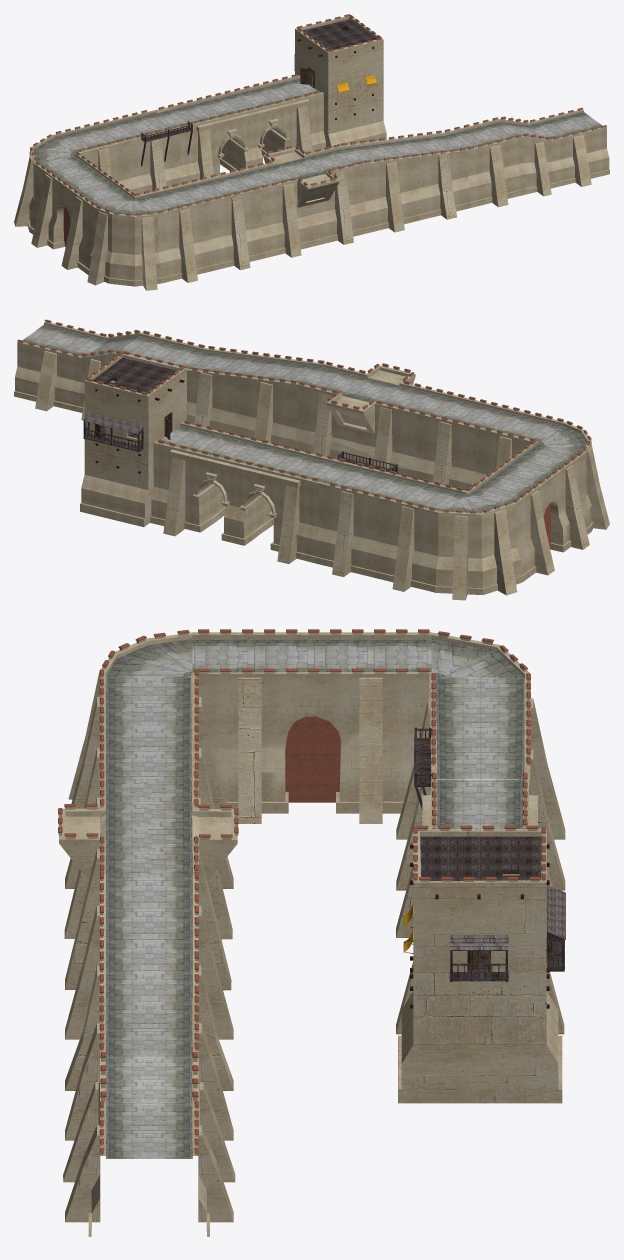
The picture shows the model from 3 angles, top to bottom: view 1: azimuth 30°, elevation 25°; view 2: azimuth 150°, elevation 25°; view 3: azimuth 270°, elevation 25°; orthographic projection. The views are drawn at different scales.
Parts seen in each view (by area): view 1: Cube.003, prim33.004, prim55.004, prim55.006, prim55.001, prim55.010, prim34.001, prim55.007, prim55.005, prim57.001, prim55.008, prim74.002 (+12 smaller); view 2: Cube.003, prim55.010, prim33.004, prim55.001, prim55.006, prim55.004, prim34.001, prim57.001, prim55.005, prim74.006, prim55.009, prim74.005 (+12 smaller); view 3: prim55.001, prim57.001, prim33.004, prim55.006, prim34.001, prim55.010, prim55.004, prim55.005, prim55.007, prim55.008, Cube.003, Balcony2 (+13 smaller).
Boxes of the visible parts, x1=… form: Cube.003: x1=156, y1=75, x2=325, y2=182; prim33.004: x1=237, y1=146, x2=367, y2=258; prim55.004: x1=135, y1=171, x2=264, y2=283; prim55.006: x1=340, y1=132, x2=471, y2=232; prim55.001: x1=29, y1=153, x2=136, y2=274; prim55.010: x1=52, y1=110, x2=182, y2=198; prim34.001: x1=295, y1=16, x2=383, y2=97; prim55.007: x1=444, y1=119, x2=526, y2=207; prim55.005: x1=528, y1=110, x2=609, y2=187; prim57.001: x1=295, y1=71, x2=386, y2=147; prim55.008: x1=500, y1=119, x2=554, y2=196; prim74.002: x1=135, y1=199, x2=160, y2=290; Cube.003: x1=150, y1=422, x2=346, y2=563; prim55.010: x1=315, y1=462, x2=466, y2=592; prim33.004: x1=295, y1=364, x2=444, y2=477; prim55.001: x1=467, y1=441, x2=591, y2=582; prim55.006: x1=185, y1=348, x2=325, y2=449; prim55.004: x1=414, y1=393, x2=564, y2=490; prim34.001: x1=84, y1=354, x2=186, y2=448; prim57.001: x1=80, y1=417, x2=184, y2=527; prim55.005: x1=14, y1=322, x2=108, y2=411; prim74.006: x1=435, y1=495, x2=483, y2=594; prim55.009: x1=452, y1=509, x2=517, y2=600; prim74.005: x1=467, y1=491, x2=522, y2=594; prim55.001: x1=192, y1=632, x2=431, y2=823; prim57.001: x1=398, y1=951, x2=562, y2=1103; prim33.004: x1=59, y1=773, x2=237, y2=990; prim55.006: x1=65, y1=874, x2=233, y2=1090; prim34.001: x1=413, y1=828, x2=546, y2=972; prim55.010: x1=396, y1=674, x2=565, y2=890; prim55.004: x1=65, y1=672, x2=233, y2=888; prim55.005: x1=65, y1=1102, x2=233, y2=1236; prim55.007: x1=65, y1=999, x2=233, y2=1140; prim55.008: x1=63, y1=1053, x2=235, y2=1182; Cube.003: x1=396, y1=775, x2=564, y2=1034; Balcony2: x1=449, y1=935, x2=508, y2=981.
Bounding box in the file's own units: 137 × 29.27 × 59.49.
Materials: 12 (12 with a texture image).
